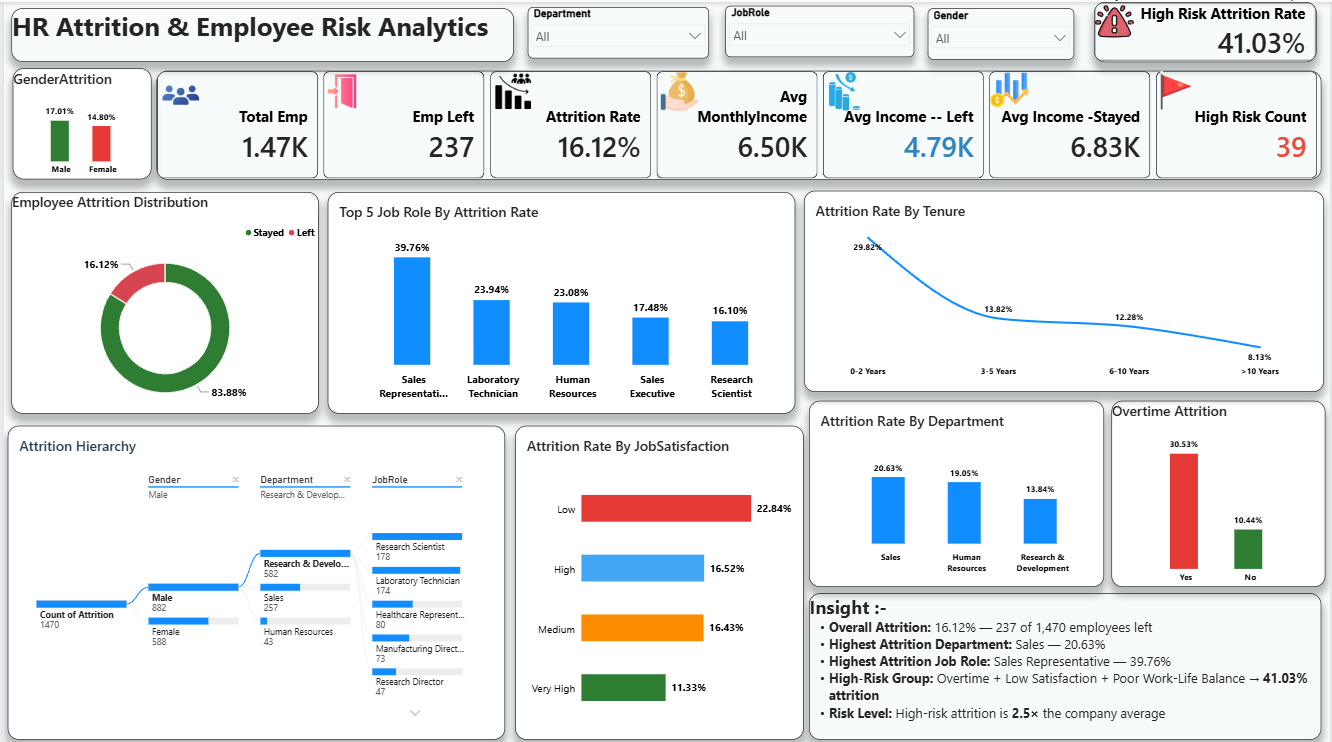

Layout of this report page (visuals, bound fields, positions):
{"tool":"powerbi","page":{"name":"Page 1","canvas":[1920,1080],"ordinal":0},"visuals":[{"type":"cardVisual","fields":{"Data":["KPI's.Total Emp","KPI's.Emp Left","KPI's.Attritio Rate","KPI's.Avg MonthlyIncome","KPI's.Avg Monthlyincome(Left)","KPI's.Avg Monthlyincome(Stayed)","KPI's.High Risk Count"]},"box":[220.8,99.5,1686.6,157.4],"z":0},{"type":"pieChart","title":"Overtime Attrition ","fields":{"Category":["hr_project emp_attrition.OverTime"],"Y":["KPI's.Attrition Rate"]},"box":[1603.4,577.3,309.5,269.6],"z":1000},{"type":"cardVisual","fields":{"Data":["KPI's.High Risk Attrition Rate"]},"box":[1578,0,322.1,86.9],"z":2000},{"type":"donutChart","title":"Employee Attrition Distribution","fields":{"Category":["hr_project emp_attrition.Emp_Status (Attrition)"],"Y":["KPI's.Total Emp"]},"box":[10.9,275.1,445.2,321],"z":3000},{"type":"donutChart","title":"Attrition Rate By Department","fields":{"Category":["hr_project emp_attrition.Department"],"Y":["KPI's.Attrition Rate"]},"box":[1165.4,577.3,427.1,269.6],"z":4000},{"type":"lineStackedColumnComboChart","title":"Attrition Rate By JobSatisfaction","fields":{"Category":["hr_project emp_attrition.JobSatisfaction_Level"],"Y":["KPI's.Attrition Rate"]},"box":[739.8,613.6,417.5,454.4],"z":5000},{"type":"decompositionTreeVisual","title":"Attrition Hierarchy","fields":{"Analyze":["CountNonNull(hr_project emp_attrition.Attrition)"],"ExplainBy":["hr_project emp_attrition.Gender","hr_project emp_attrition.Department","hr_project emp_attrition.JobRole"]},"box":[5.8,613.6,720.4,454.4],"z":6000},{"type":"ribbonChart","title":"Attrition Rate By Tenure","fields":{"Category":["hr_project emp_attrition.Tenure"],"Y":["KPI's.Attrition Rate"]},"box":[1158.2,273.3,752.8,291.4],"z":7000},{"type":"clusteredBarChart","title":"Top 5 Job Role By Attrition Rate","fields":{"Category":["hr_project emp_attrition.JobRole"],"Y":["KPI's.Attrition Rate"]},"box":[468.7,275.1,676.8,321],"z":8000},{"type":"textbox","box":[1165.4,856,742,211.7],"z":9000},{"type":"image","box":[226.2,106.8,59.7,56.1],"z":10000},{"type":"image","box":[459.7,101.3,59.7,56.1],"z":11000},{"type":"image","box":[707.6,101.3,59.7,56.1],"z":12000},{"type":"image","box":[948.3,101.3,59.7,56.1],"z":13000},{"type":"image","box":[1187.1,101.3,59,56],"z":14000},{"type":"image","box":[1426,99.5,59.7,56.1],"z":15000},{"type":"image","box":[1666.7,99.5,59.7,56.1],"z":16000},{"type":"image","box":[1578,0,59,56],"z":17000},{"type":"textbox","box":[10.9,9,727.5,77.8],"z":18000},{"type":"clusteredColumnChart","title":"GenderAttrition ","fields":{"Category":["hr_project emp_attrition.Gender"],"Y":["KPI's.Attritio Rate"]},"box":[12.7,95.9,200.9,161.1],"z":19000},{"type":"slicer","fields":{"Values":["hr_project emp_attrition.Department"]},"box":[758.2,7.2,262.4,74.2],"z":20000},{"type":"slicer","fields":{"Values":["hr_project emp_attrition.Gender"]},"box":[1337.3,9,211.7,74.2],"z":21000},{"type":"slicer","fields":{"Values":["hr_project emp_attrition.JobRole"]},"box":[1044.2,5.4,273.3,74.2],"z":22000}]}

Visuals, with their boxes in screenshot pixels (x1, y1, x2, y2), scaled from the page's 1920x1080 canvas onto the 1332x742 screenshot:
cardVisual - KPI's.Total Emp x KPI's.Emp Left: (left=153, top=68, right=1323, bottom=176)
"Overtime Attrition " pieChart: (left=1112, top=397, right=1327, bottom=582)
cardVisual - KPI's.High Risk Attrition Rate: (left=1095, top=0, right=1318, bottom=60)
"Employee Attrition Distribution" donutChart: (left=8, top=189, right=316, bottom=410)
"Attrition Rate By Department" donutChart: (left=808, top=397, right=1105, bottom=582)
"Attrition Rate By JobSatisfaction" lineStackedColumnComboChart: (left=513, top=422, right=803, bottom=734)
"Attrition Hierarchy" decompositionTreeVisual: (left=4, top=422, right=504, bottom=734)
"Attrition Rate By Tenure" ribbonChart: (left=804, top=188, right=1326, bottom=388)
"Top 5 Job Role By Attrition Rate" clusteredBarChart: (left=325, top=189, right=795, bottom=410)
textbox: (left=808, top=588, right=1323, bottom=734)
image: (left=157, top=73, right=198, bottom=112)
image: (left=319, top=70, right=360, bottom=108)
image: (left=491, top=70, right=532, bottom=108)
image: (left=658, top=70, right=699, bottom=108)
image: (left=824, top=70, right=864, bottom=108)
image: (left=989, top=68, right=1031, bottom=107)
image: (left=1156, top=68, right=1198, bottom=107)
image: (left=1095, top=0, right=1136, bottom=38)
textbox: (left=8, top=6, right=512, bottom=60)
"GenderAttrition " clusteredColumnChart: (left=9, top=66, right=148, bottom=177)
slicer - hr_project emp_attrition.Department: (left=526, top=5, right=708, bottom=56)
slicer - hr_project emp_attrition.Gender: (left=928, top=6, right=1075, bottom=57)
slicer - hr_project emp_attrition.JobRole: (left=724, top=4, right=914, bottom=55)
